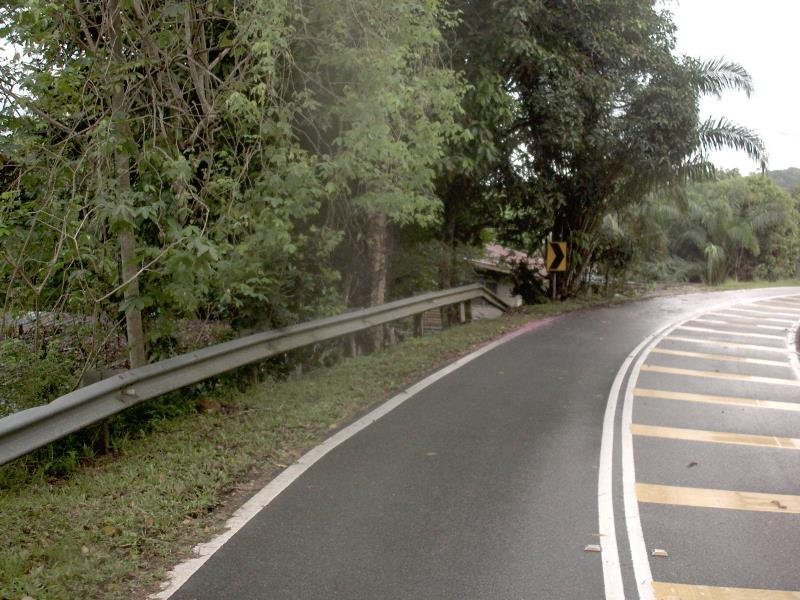traffic_sign: (538, 232, 574, 281)
